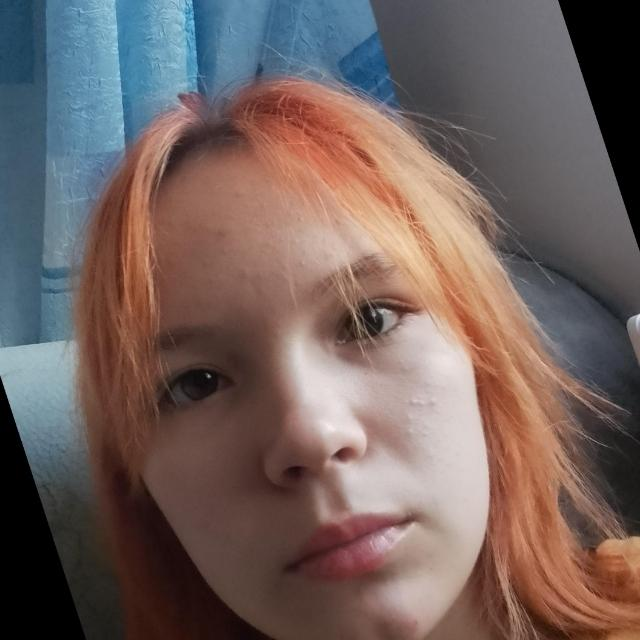Natural: (71, 125, 585, 640)
